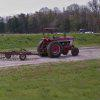Tractor: (30, 21, 81, 58)
